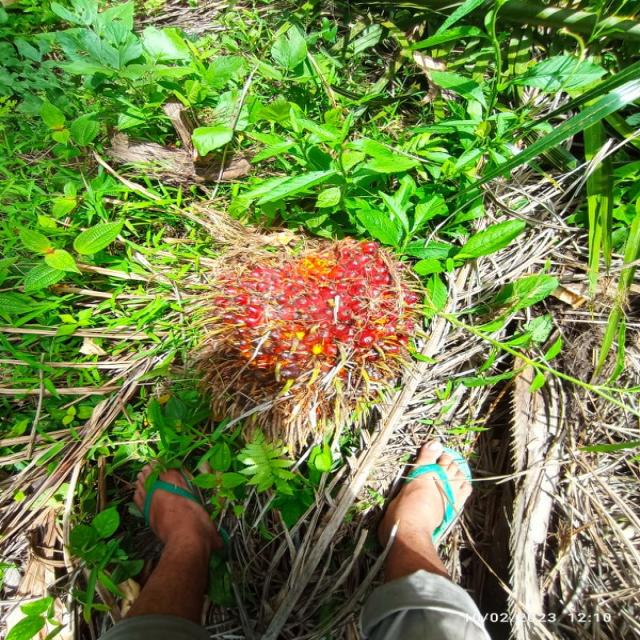fraksi 3: (133, 198, 466, 438)
